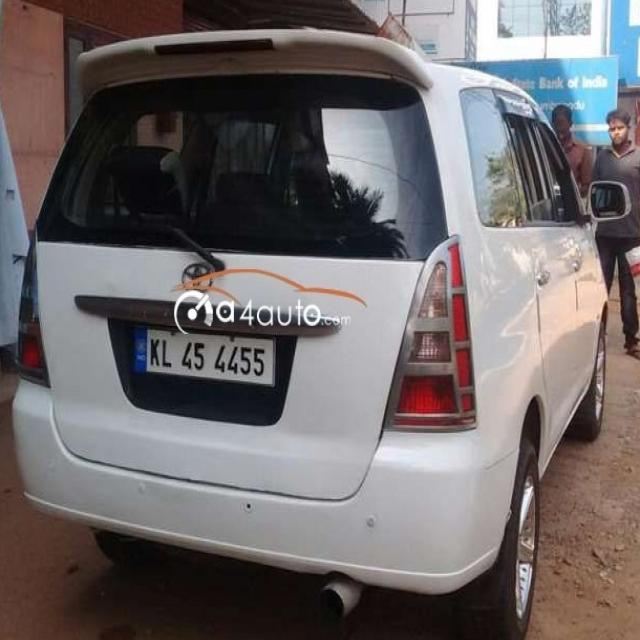number_plate: (143, 328, 274, 382)
